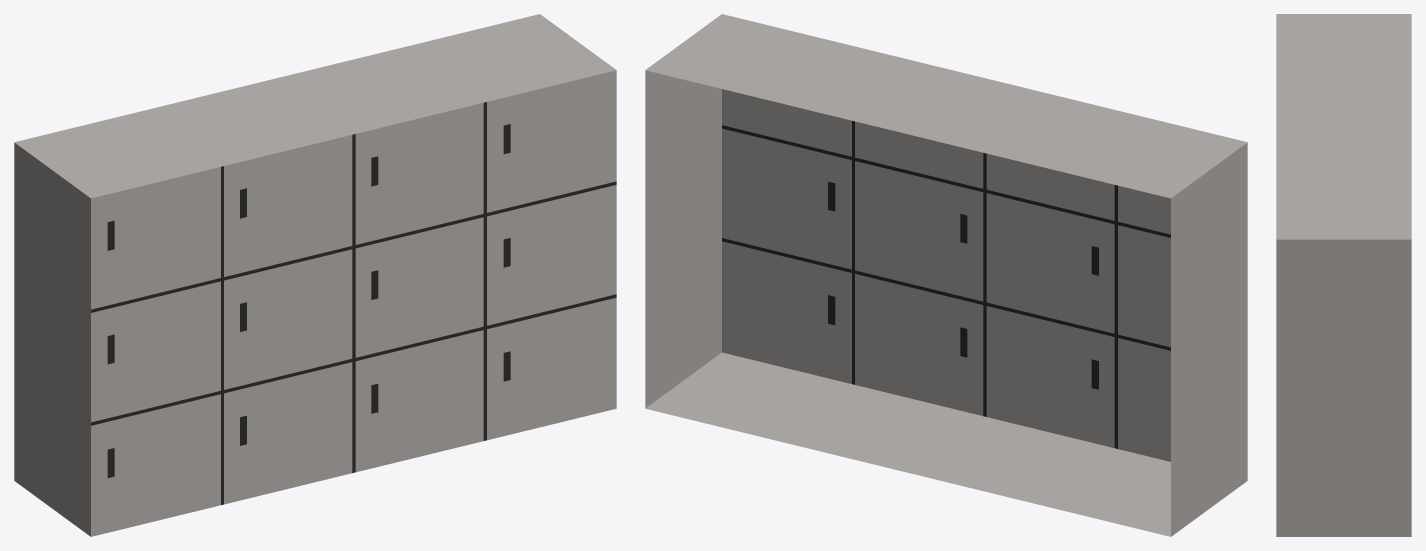
The picture shows the model from 3 angles, left to right: view 1: azimuth 30°, elevation 25°; view 2: azimuth 150°, elevation 25°; view 3: azimuth 270°, elevation 25°; orthographic projection. The views are drawn at different scales.
Visible parts, largest first — view 1: guizi_1:pCube24; view 2: guizi_1:pCube24; view 3: guizi_1:pCube24.
Part boxes in pixels (left/top/right/bottom): guizi_1:pCube24: left=14, top=14, right=616, bottom=536; guizi_1:pCube24: left=645, top=14, right=1247, bottom=536; guizi_1:pCube24: left=1276, top=14, right=1411, bottom=536.
Bounding box in the file's own units: 282 × 173 × 71.29.
